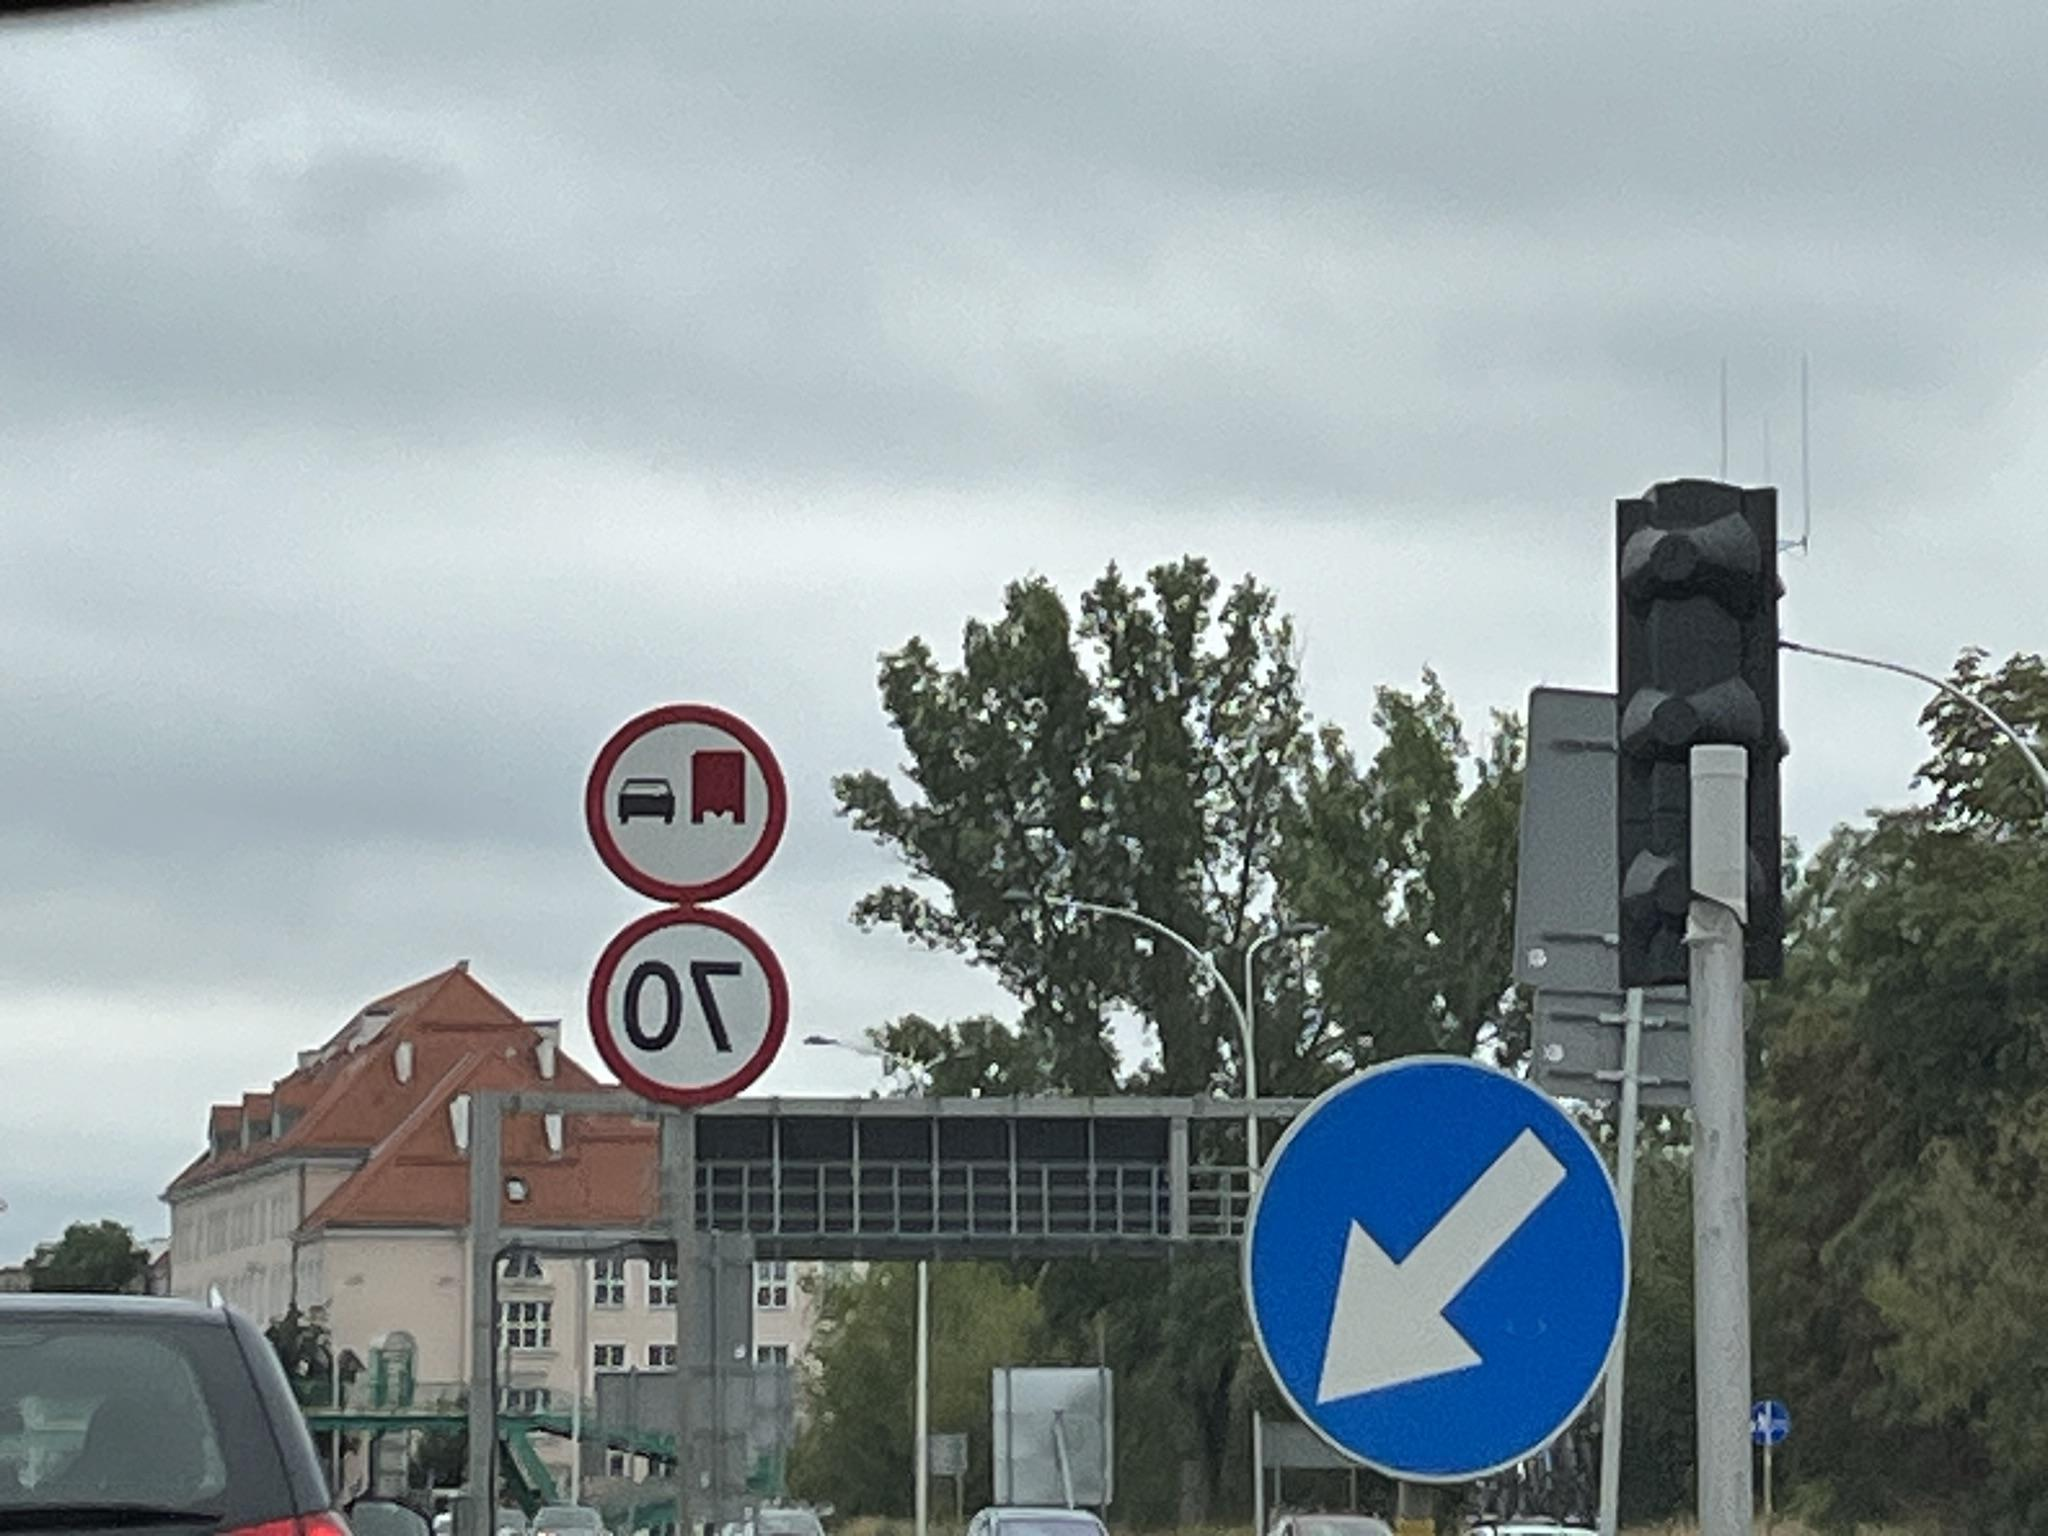mandatory: (1240, 1050, 1634, 1490), (1750, 1398, 1790, 1448)
prohibitory: (584, 904, 792, 1112), (582, 702, 790, 906)
